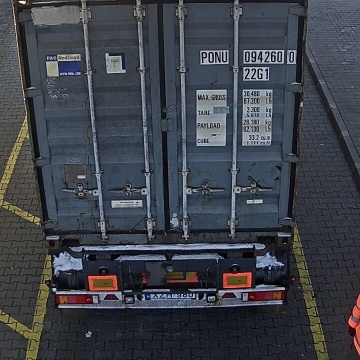serial_id: (200, 50, 295, 64)
